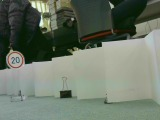speed_20: (6, 51, 25, 69)
